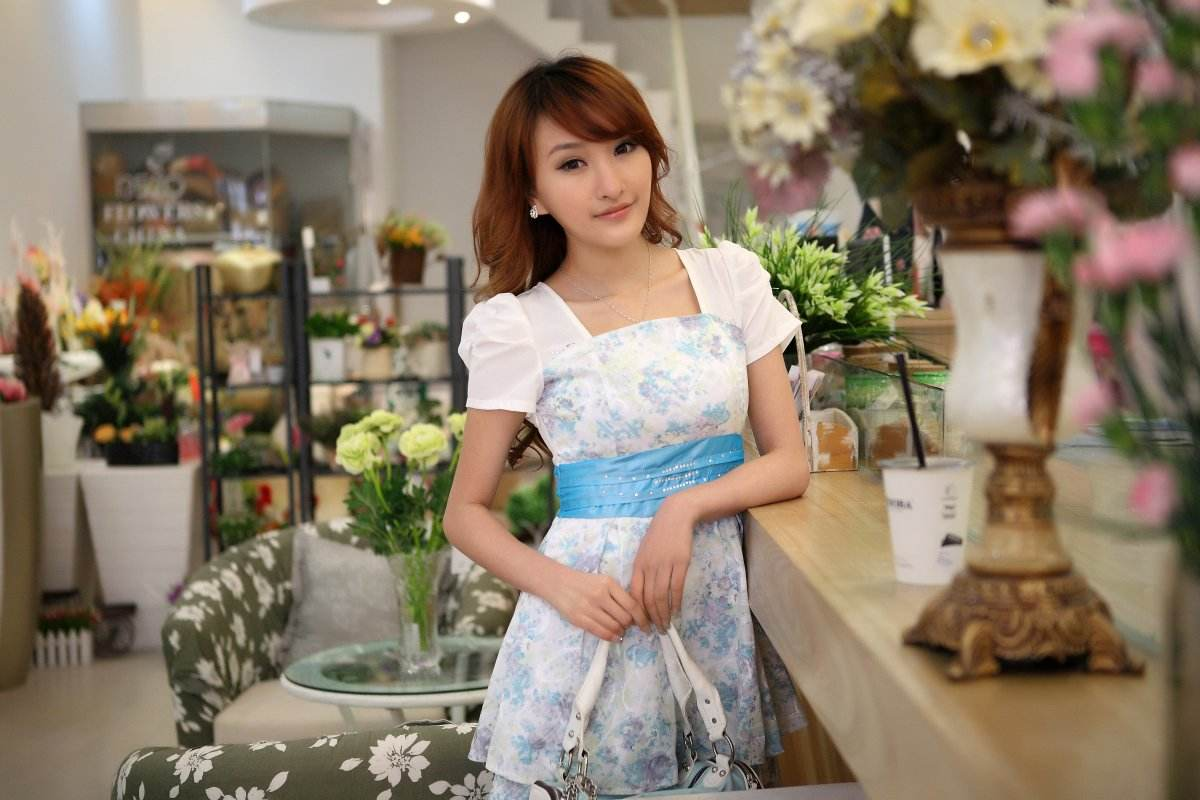person: (412, 34, 794, 704)
